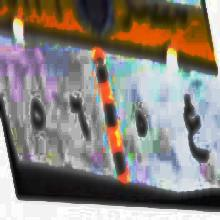5: (26, 78, 48, 148)
6: (68, 84, 94, 158)
ghayn: (178, 84, 211, 178)
haa: (134, 92, 150, 162)
